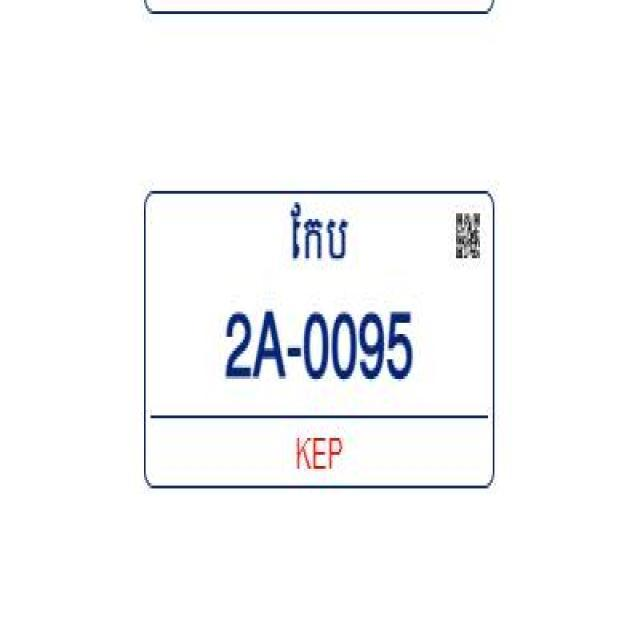Kep: (290, 202, 350, 266)
